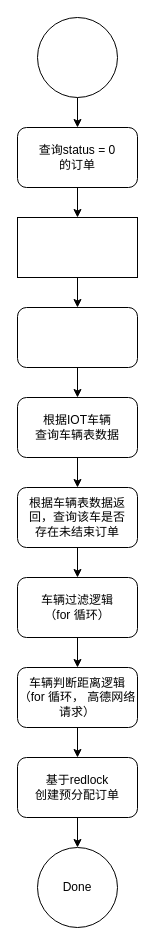
Image size: 155x945. Some labels were removed from this diagram. Here are the shapes that lost their labels. From the top down, the centre of each, then its label:
At pixel 77 57: "start".
At pixel 77 247: "查询订单起点 坐标".
At pixel 77 337: "从redis上获取车辆 IOT数据".
